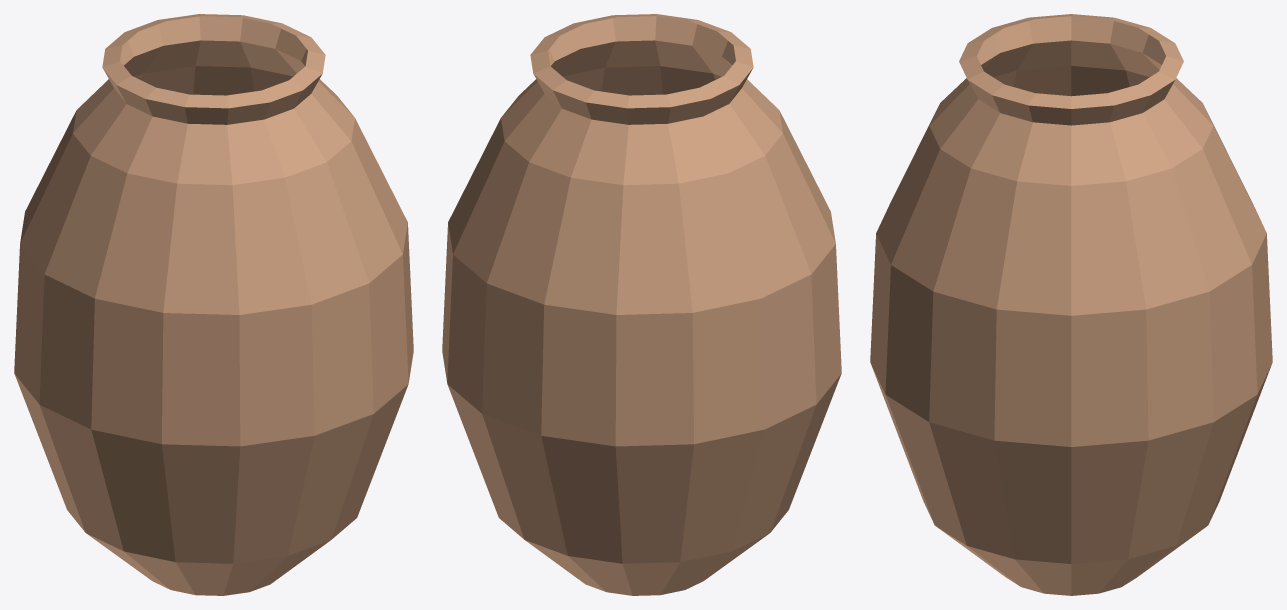
Rendered from kup.glb.
The picture shows the model from 3 angles, left to right: view 1: azimuth 30°, elevation 25°; view 2: azimuth 150°, elevation 25°; view 3: azimuth 270°, elevation 25°; orthographic projection.
Visible parts, largest first — view 1: kup; view 2: kup; view 3: kup.
Boxes of the visible parts, x1,y1,x2,y2 form: kup: [14, 14, 413, 595]; kup: [442, 14, 841, 595]; kup: [870, 14, 1272, 595].
Size of the model in its own units: 0.68 by 0.95 by 0.68.
